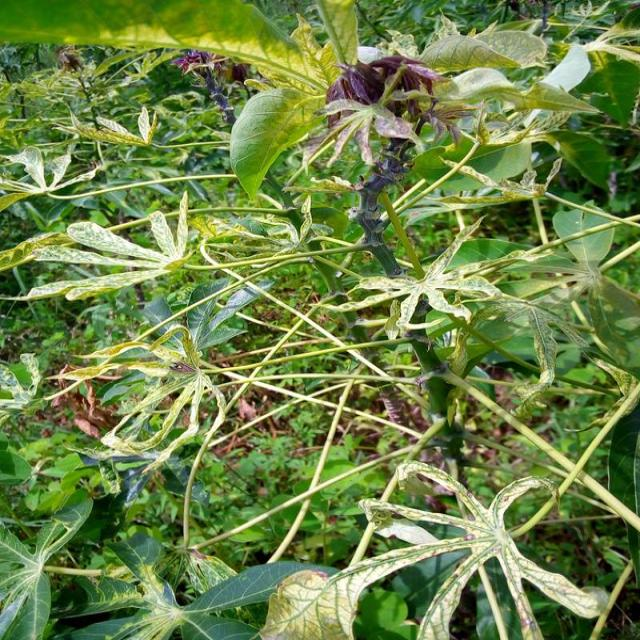cassava leaf: (228, 84, 314, 202)
